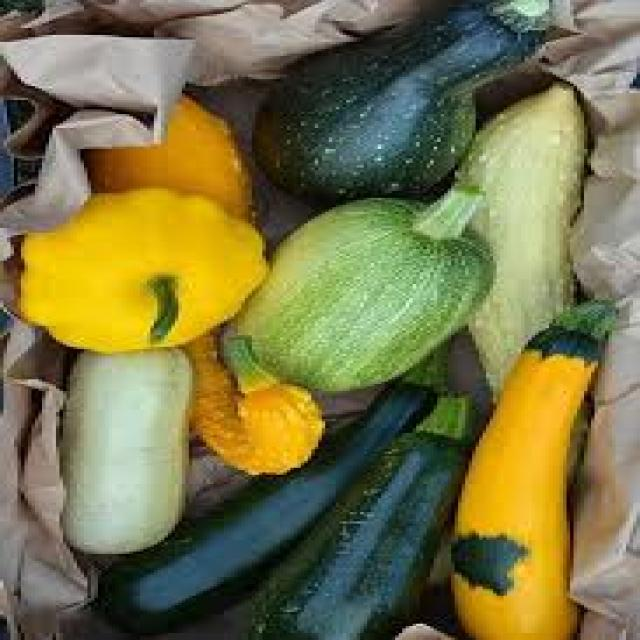organic waste: (80, 340, 440, 630), (437, 298, 616, 638), (252, 0, 556, 198), (227, 172, 493, 394), (252, 388, 476, 638), (441, 75, 584, 408), (7, 186, 269, 349), (52, 342, 186, 549), (178, 326, 318, 472), (80, 96, 245, 216)
